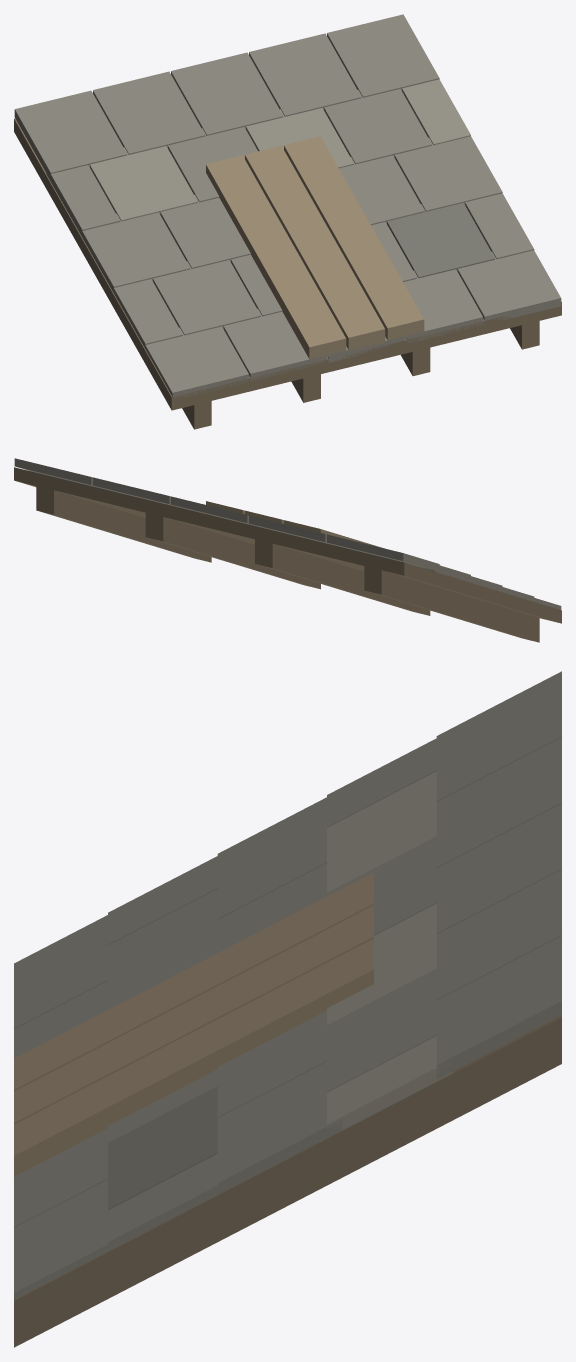
The model's file is env_roof_shingle_timber_patch_c.glb.
3 renders of one model, top to bottom at view 1: azimuth 30°, elevation 25°; view 2: azimuth 150°, elevation 25°; view 3: azimuth 270°, elevation 25°, orthographic. The views are drawn at different scales.
Parts seen in each view (by area): view 1: material_4, material_3, material_5, material_2, material_6; view 2: material_2, material_4, material_3; view 3: material_4, material_3, material_2, material_5, material_6.
Part boxes in pixels (x1,y1,x2,y2): material_4: (14, 14, 561, 399); material_3: (206, 136, 424, 359); material_5: (90, 79, 470, 221); material_2: (14, 118, 561, 429); material_6: (387, 203, 494, 278); material_2: (14, 467, 561, 642); material_4: (14, 458, 561, 609); material_3: (206, 501, 382, 547); material_4: (14, 671, 561, 1300); material_3: (14, 872, 373, 1176); material_2: (14, 1015, 561, 1347); material_5: (327, 771, 452, 1135); material_6: (108, 1087, 217, 1210).
Bounding box in the file's own units: 2 × 1.03 × 1.4.
